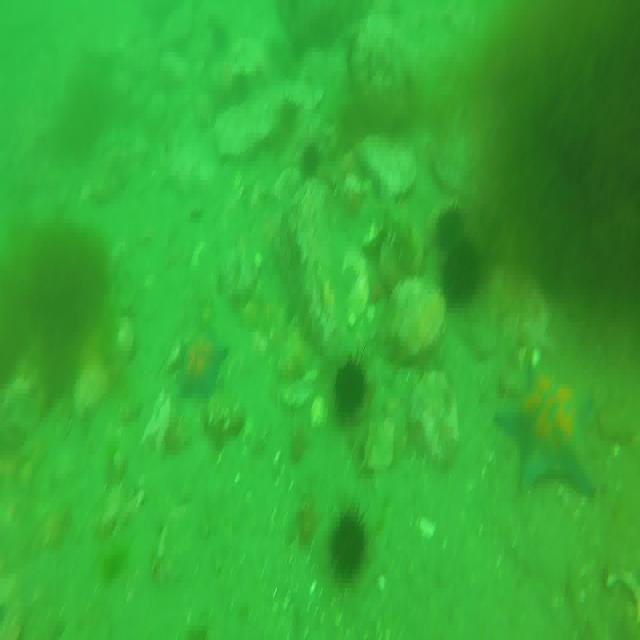echinus: (332, 510, 367, 581), (333, 354, 367, 424), (444, 241, 479, 303), (437, 206, 468, 247), (300, 143, 326, 184)
holothurian: (373, 196, 427, 275)
starfish: (499, 352, 600, 496), (170, 319, 229, 402)
